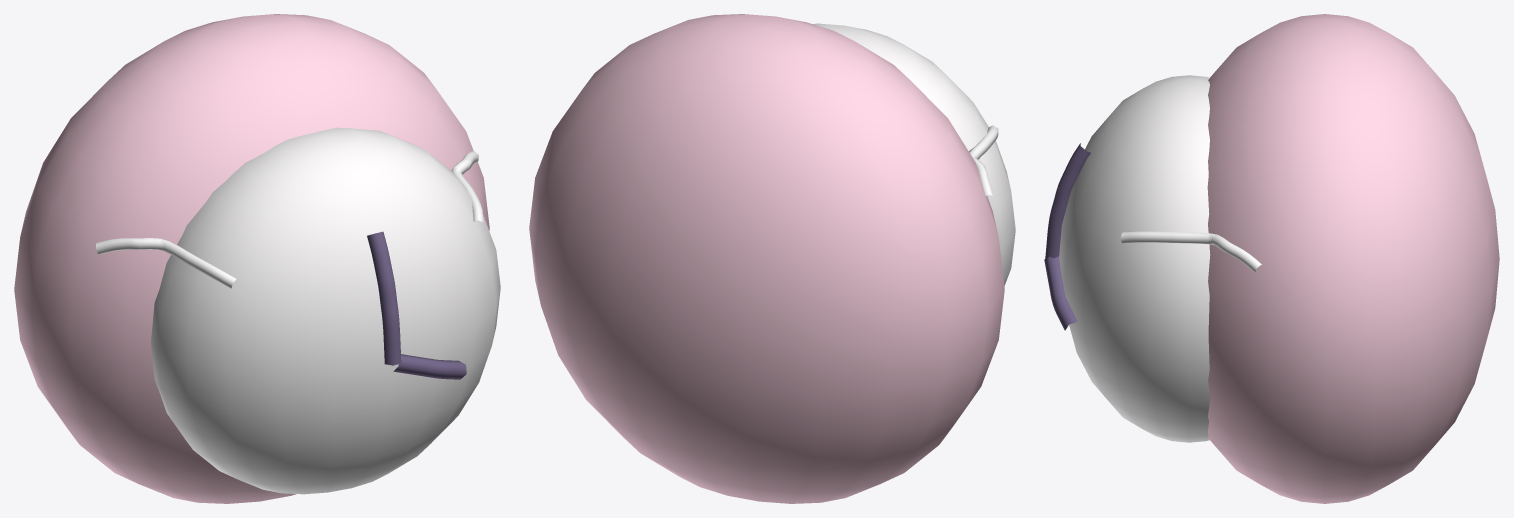
File: decor_4_candy.glb
The picture shows the model from 3 angles, left to right: view 1: azimuth 30°, elevation 25°; view 2: azimuth 150°, elevation 25°; view 3: azimuth 270°, elevation 25°; orthographic projection. The views are drawn at different scales.
Parts seen in each view (by area): view 1: decor_4_candy; view 2: decor_4_candy; view 3: decor_4_candy.
Part boxes in pixels (x1,y1,x2,y2): decor_4_candy: (14, 14, 500, 503); decor_4_candy: (529, 14, 1015, 503); decor_4_candy: (1044, 14, 1499, 503).
Bounding box in the file's own units: 8 × 8 × 7.44.
